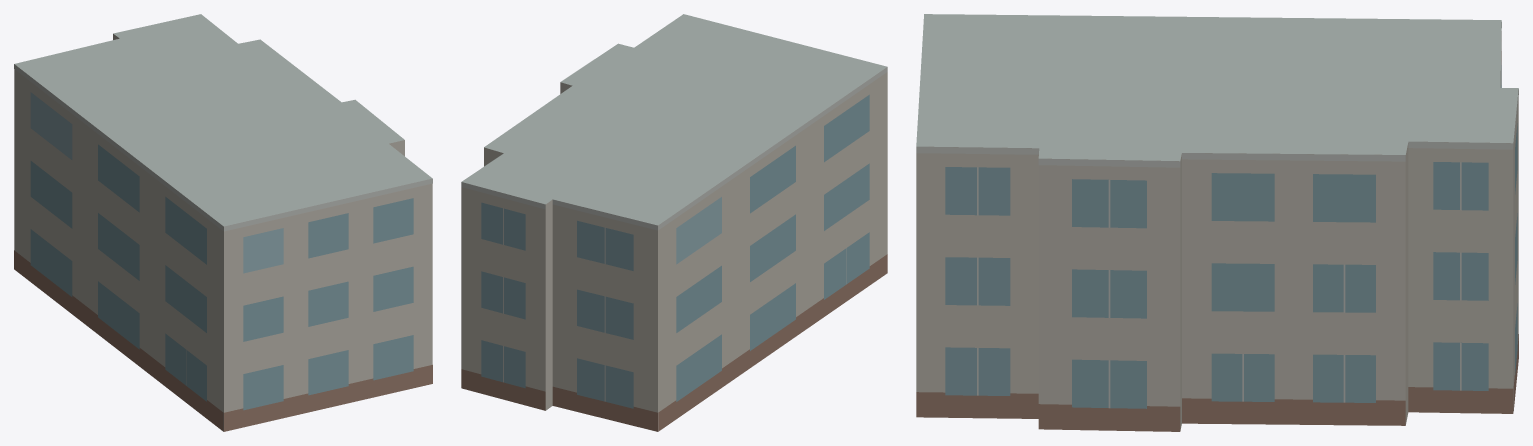
The model's file is survey-upis-32745546.glb.
3 renders of one model, left to right at view 1: azimuth 30°, elevation 25°; view 2: azimuth 150°, elevation 25°; view 3: azimuth 270°, elevation 25°, orthographic. The views are drawn at different scales.
Parts seen in each view (by area): view 1: survey-upis-32745546.tmp; view 2: survey-upis-32745546.tmp; view 3: survey-upis-32745546.tmp.
Part boxes in pixels (box(x1,y1,x2,y2)): survey-upis-32745546.tmp: box(14, 14, 432, 431); survey-upis-32745546.tmp: box(461, 14, 887, 431); survey-upis-32745546.tmp: box(916, 14, 1518, 431).
Size of the model in its own units: 11.66 by 10 by 20.18.
